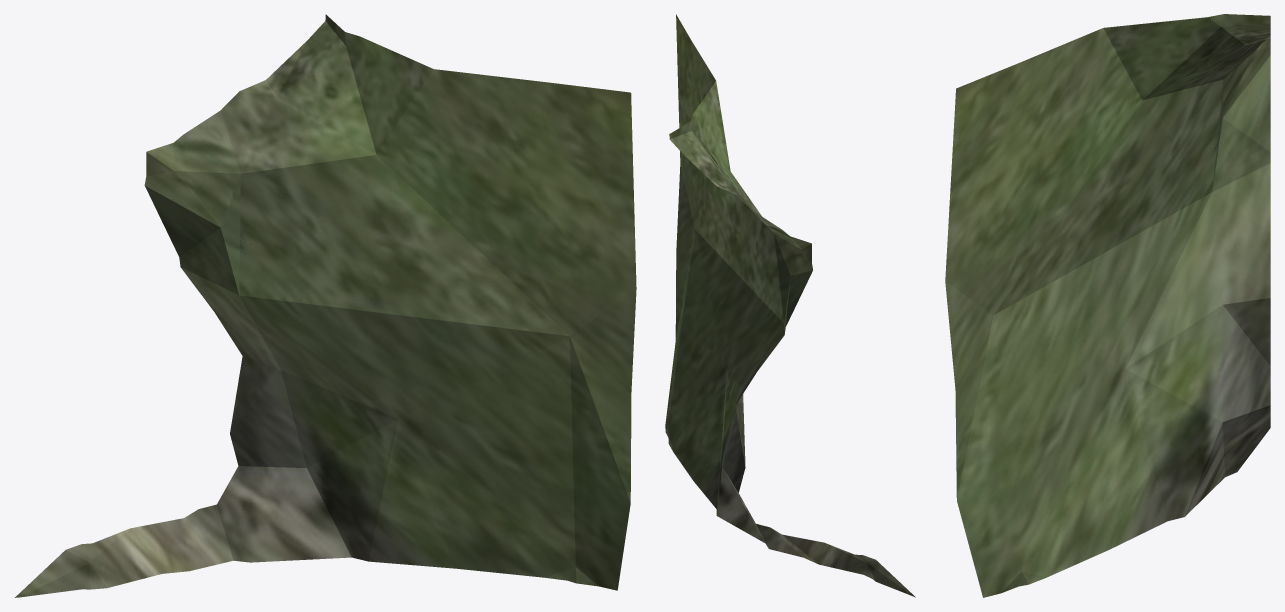
3 renders of one model, left to right at view 1: azimuth 30°, elevation 25°; view 2: azimuth 150°, elevation 25°; view 3: azimuth 270°, elevation 25°, orthographic. The views are drawn at different scales.
Bounding box in the file's own units: 2.79 × 2.95 × 1.71.
2 materials, 2 textured.
